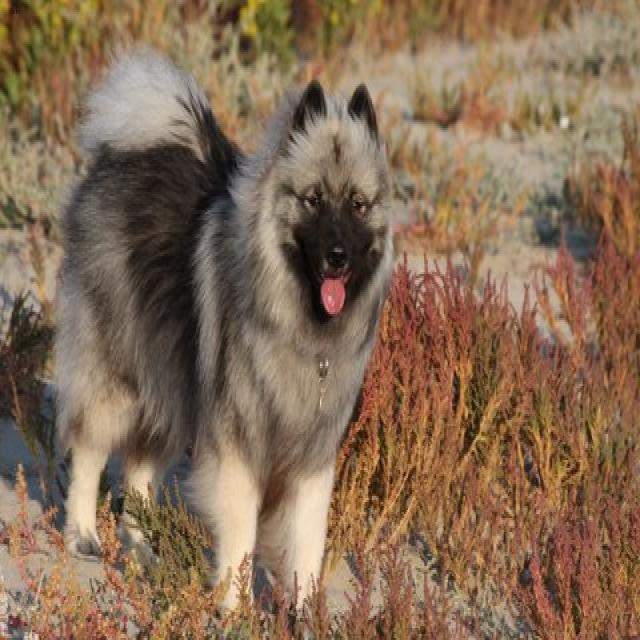dog-keeshond: (48, 28, 401, 624)
